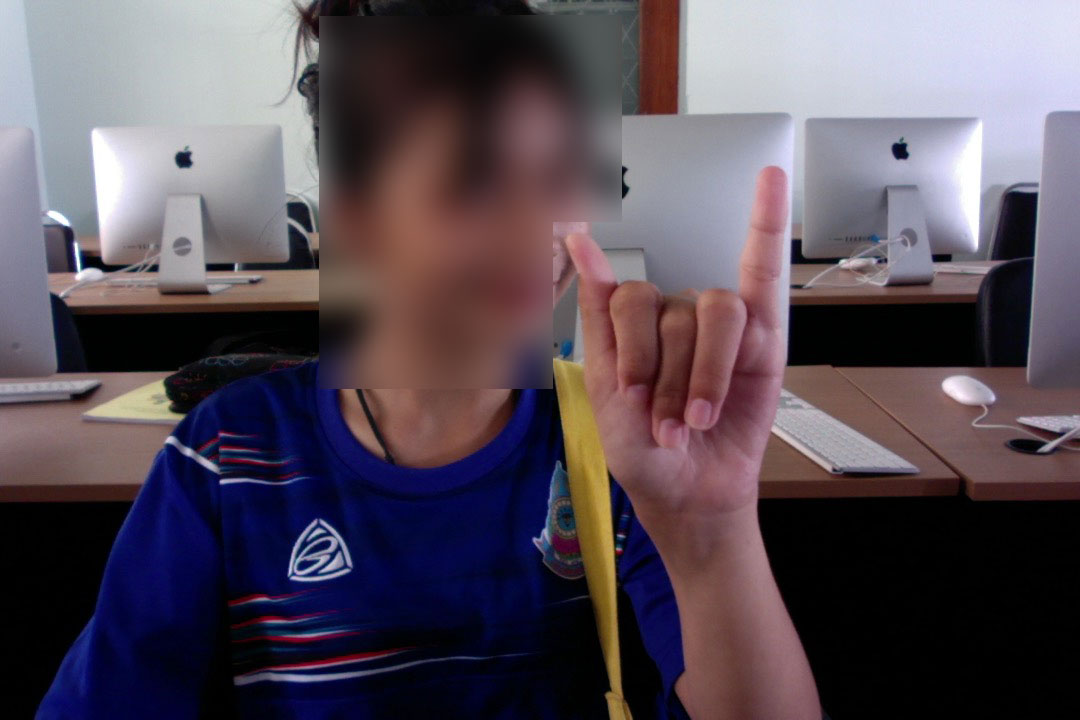yor: (558, 162, 796, 523)
